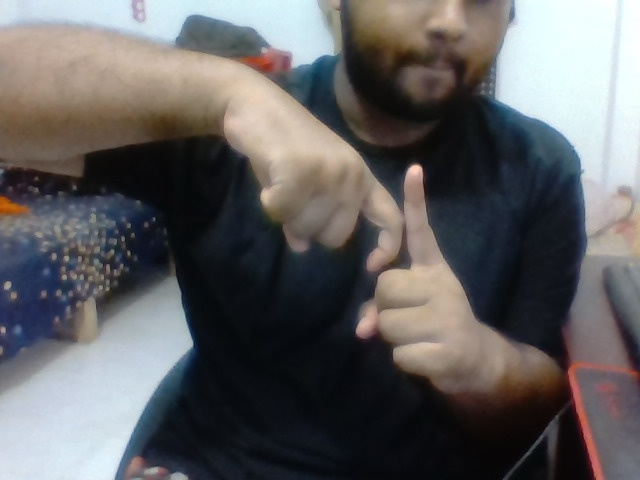K: (249, 59, 509, 410)
